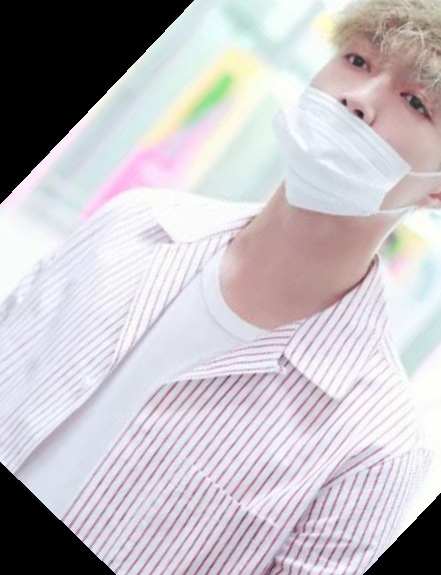mask_weared_incorrect: (264, 1, 441, 221)
